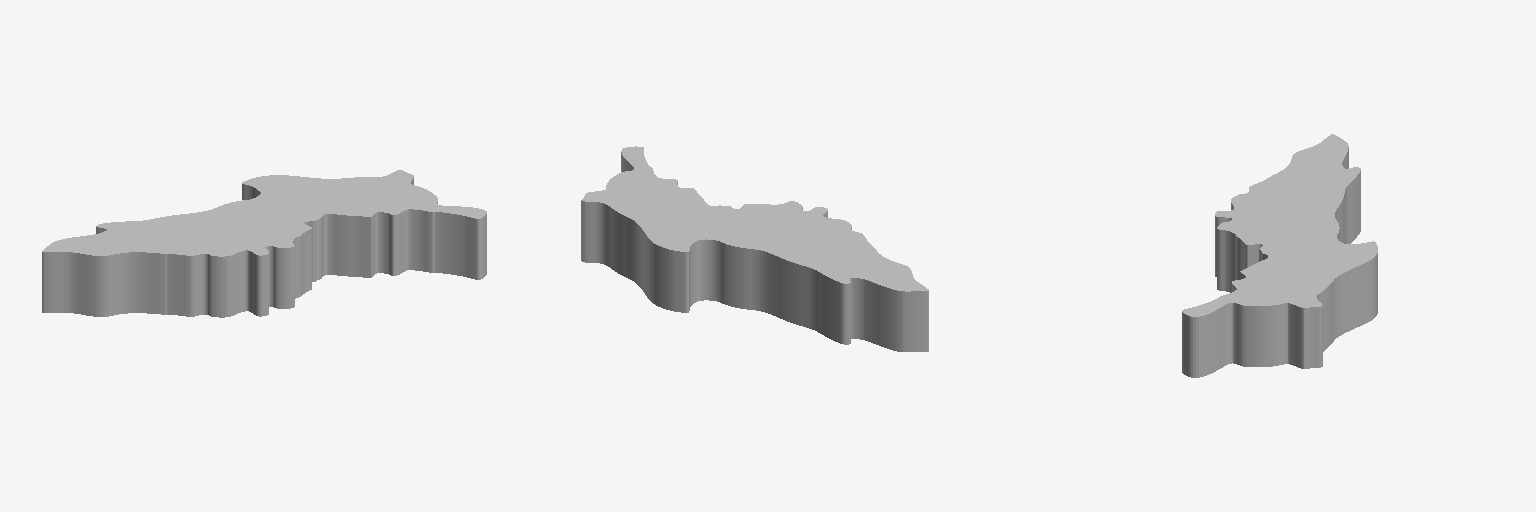
Rendered from Asia_08.obj.
The picture shows the model from 3 angles: view 1: azimuth 30°, elevation 25°; view 2: azimuth 150°, elevation 25°; view 3: azimuth 270°, elevation 25°; orthographic projection.
Parts seen in each view (by area): view 1: Asia_08_path4264; view 2: Asia_08_path4264; view 3: Asia_08_path4264.
Part boxes in pixels (x1,y1,x2,y2): Asia_08_path4264: (42, 170, 486, 317); Asia_08_path4264: (581, 146, 928, 351); Asia_08_path4264: (1182, 134, 1377, 377).
Bounding box in the file's own units: 0.6436 × 0.1 × 0.2928.